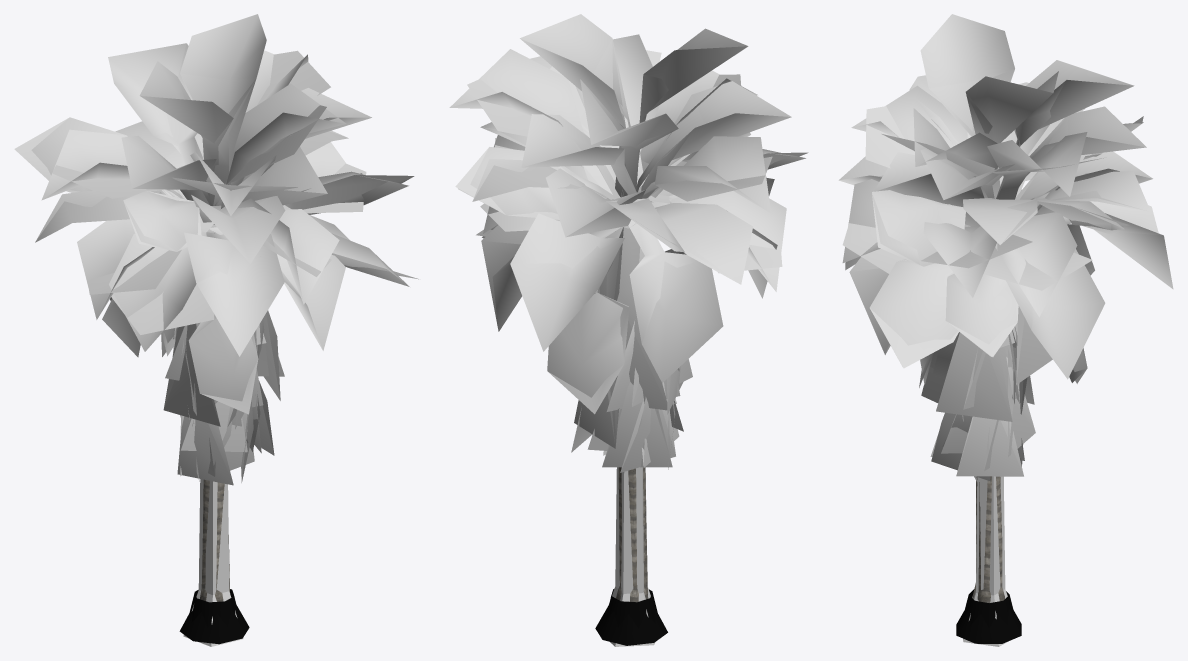
File: fanpalm_full.dae
3 renders of one model, left to right at view 1: azimuth 30°, elevation 25°; view 2: azimuth 150°, elevation 25°; view 3: azimuth 270°, elevation 25°, orthographic. The views are drawn at different scales.
Visible parts, largest first — view 1: fanpalm_full_a400, fanpalm_full_a150, Colmesh_fanpalm_full-1; view 2: fanpalm_full_a400, fanpalm_full_a150, Colmesh_fanpalm_full-1; view 3: fanpalm_full_a400, fanpalm_full_a150, Colmesh_fanpalm_full-1.
Part boxes in pixels (bbox=[...]): fanpalm_full_a400: bbox=[31, 14, 409, 644]; fanpalm_full_a150: bbox=[14, 43, 418, 599]; Colmesh_fanpalm_full-1: bbox=[183, 479, 243, 646]; fanpalm_full_a400: bbox=[449, 14, 805, 645]; fanpalm_full_a150: bbox=[455, 38, 808, 598]; Colmesh_fanpalm_full-1: bbox=[610, 467, 655, 646]; fanpalm_full_a400: bbox=[839, 14, 1162, 643]; fanpalm_full_a150: bbox=[839, 69, 1173, 597]; Colmesh_fanpalm_full-1: bbox=[963, 476, 1007, 646].
Size of the model in its own units: 9.88 by 9.04 by 17.42.
